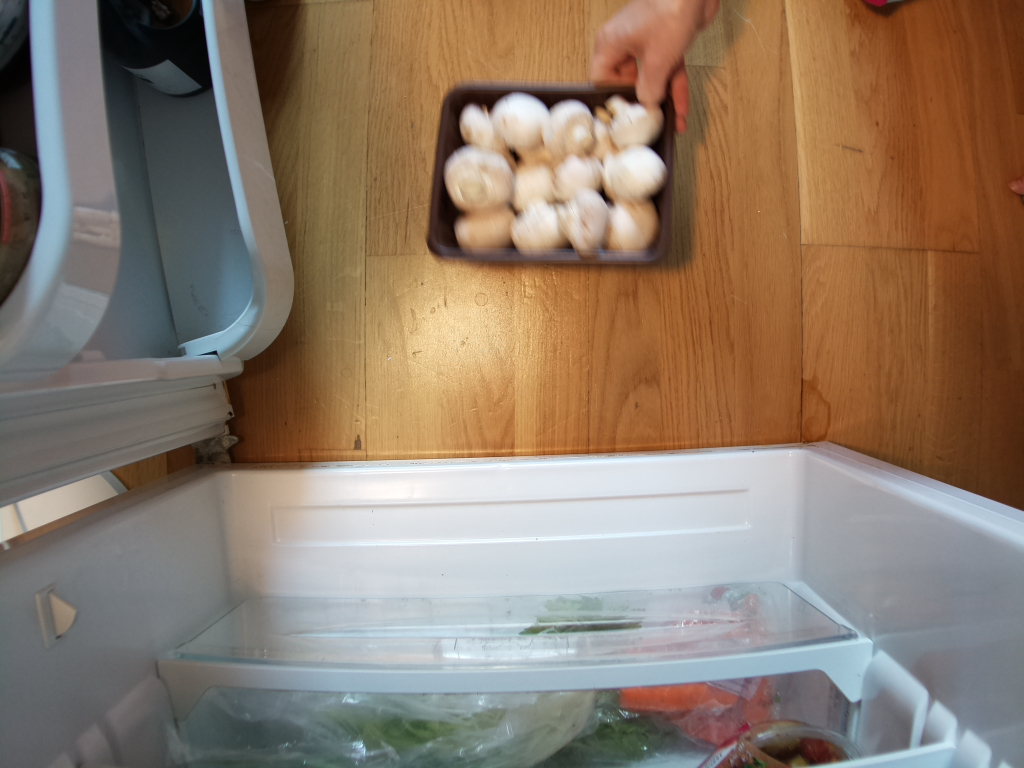mushrooms: (418, 76, 699, 274)
